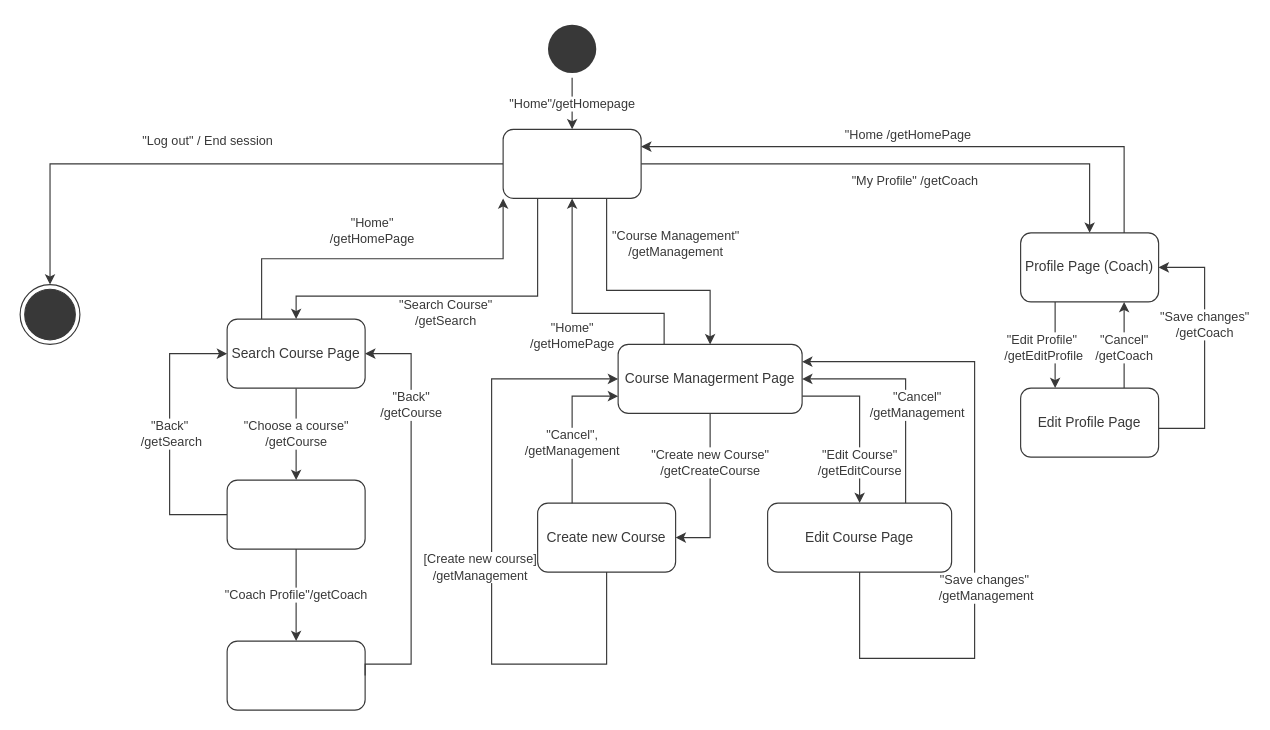
The diagram is 1270 pixels wide and 730 high, and some of its shapes have lost their labels. Here are the shapes that lost their labels. From the top down, the box of each, then its label:
(502, 128, 641, 198): Home Page
(226, 479, 365, 549): Course Infor Page
(226, 640, 365, 710): Coach Profile Page
